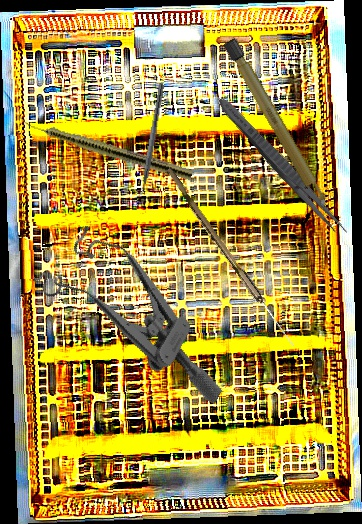Chopper: (132, 81, 165, 204)
Dressing Forceps: (211, 91, 353, 242)
Handpiece: (15, 114, 195, 182)
Scalpel Handle: (222, 36, 332, 213)
Speculum: (22, 215, 261, 405)
Surgical Spoon: (162, 167, 299, 349)
